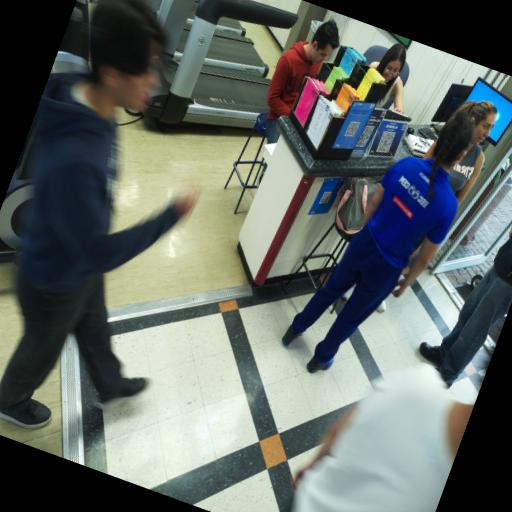person: (0, 0, 196, 428), (282, 111, 472, 372), (290, 364, 473, 511), (419, 227, 511, 386), (265, 19, 338, 143), (448, 100, 496, 202), (369, 43, 405, 113)
